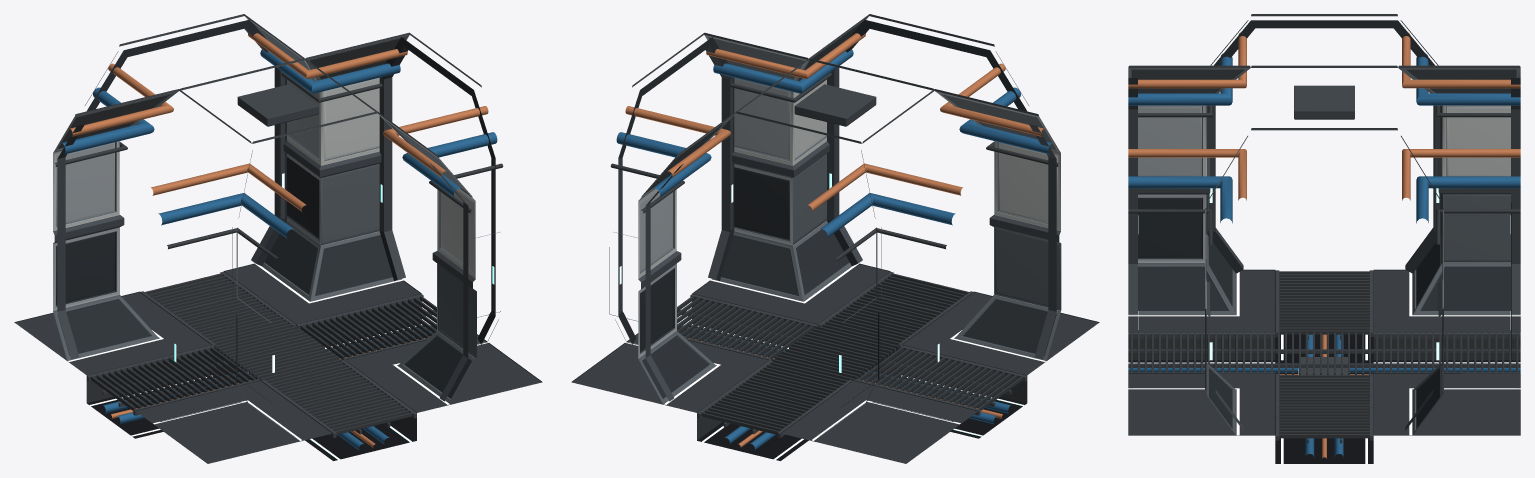
File: corridor_cross.glb
3 renders of one model, left to right at view 1: azimuth 30°, elevation 25°; view 2: azimuth 150°, elevation 25°; view 3: azimuth 270°, elevation 25°, orthographic.
Parts seen in each view (by area): view 1: corridor_cross_body, corridor_cross_detail, corridor_cross_pipes, corridor_cross_decal; view 2: corridor_cross_body, corridor_cross_detail, corridor_cross_pipes, corridor_cross_decal; view 3: corridor_cross_body, corridor_cross_detail, corridor_cross_pipes, corridor_cross_decal.
Part boxes in pixels (bbox=[...]): corridor_cross_body: bbox=[14, 14, 542, 463]; corridor_cross_detail: bbox=[87, 84, 436, 438]; corridor_cross_pipes: bbox=[54, 33, 503, 450]; corridor_cross_decal: bbox=[68, 173, 494, 459]; corridor_cross_body: bbox=[571, 14, 1099, 463]; corridor_cross_detail: bbox=[677, 84, 1026, 438]; corridor_cross_pipes: bbox=[610, 33, 1059, 450]; corridor_cross_decal: bbox=[619, 173, 1045, 459]; corridor_cross_body: bbox=[1128, 14, 1520, 463]; corridor_cross_detail: bbox=[1128, 85, 1520, 443]; corridor_cross_pipes: bbox=[1128, 32, 1520, 458]; corridor_cross_decal: bbox=[1128, 188, 1520, 463].
Size of the model in its own units: 4 by 3.2 by 4.
